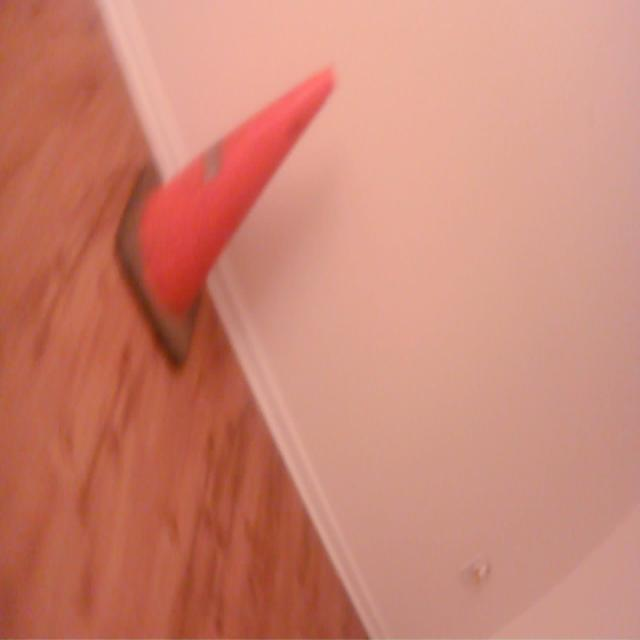traffic cone: (110, 60, 342, 378)
